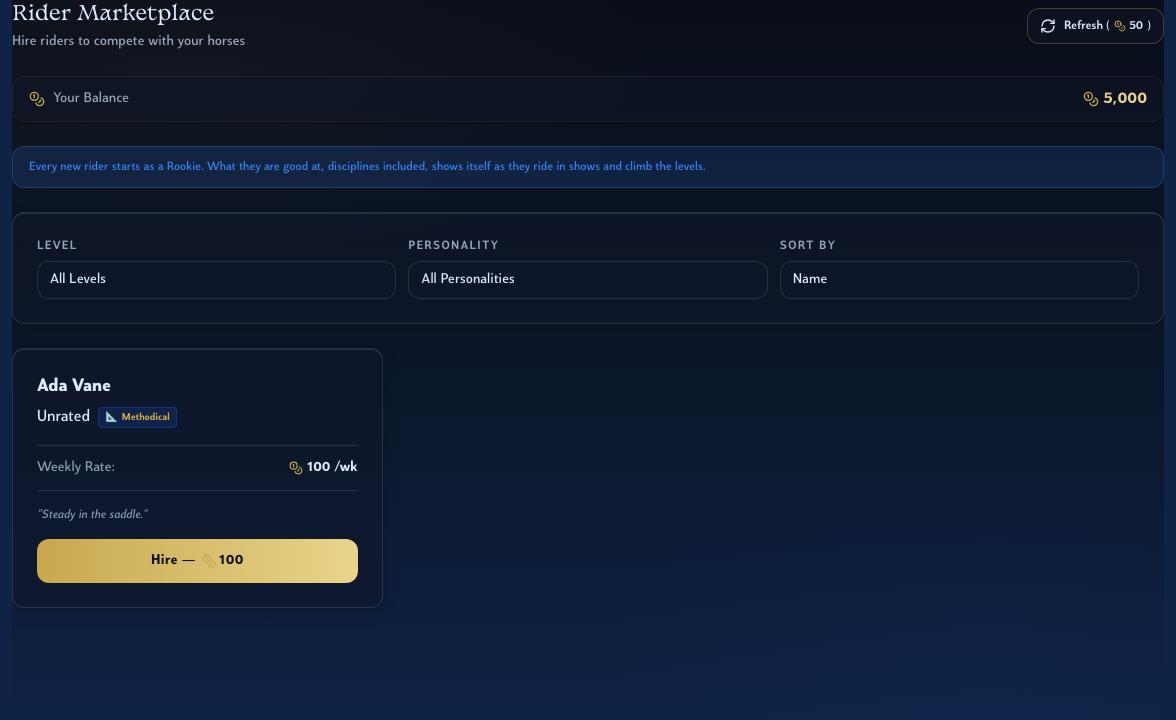
Scenario: RiderList — hire feedback (Equoria-ln49p) › a stale hire error is cleared by the next click
Click the button with test id "hire-button-mk-1" at {"x": 197, "y": 561}, box [37, 539, 358, 583]
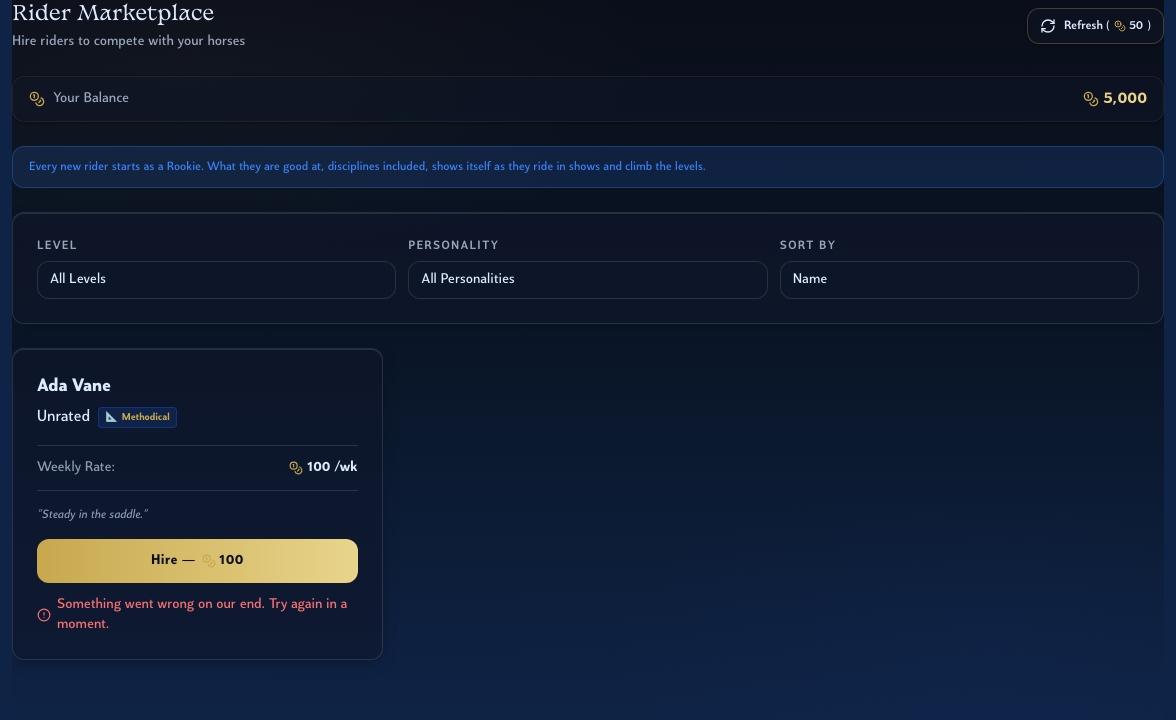
Now the message "Something went wrong on our end. Try again in a moment." is shown, box [37, 595, 358, 635]
Click the button with test id "hire-button-mk-1" at {"x": 197, "y": 561}, box [37, 539, 358, 583]
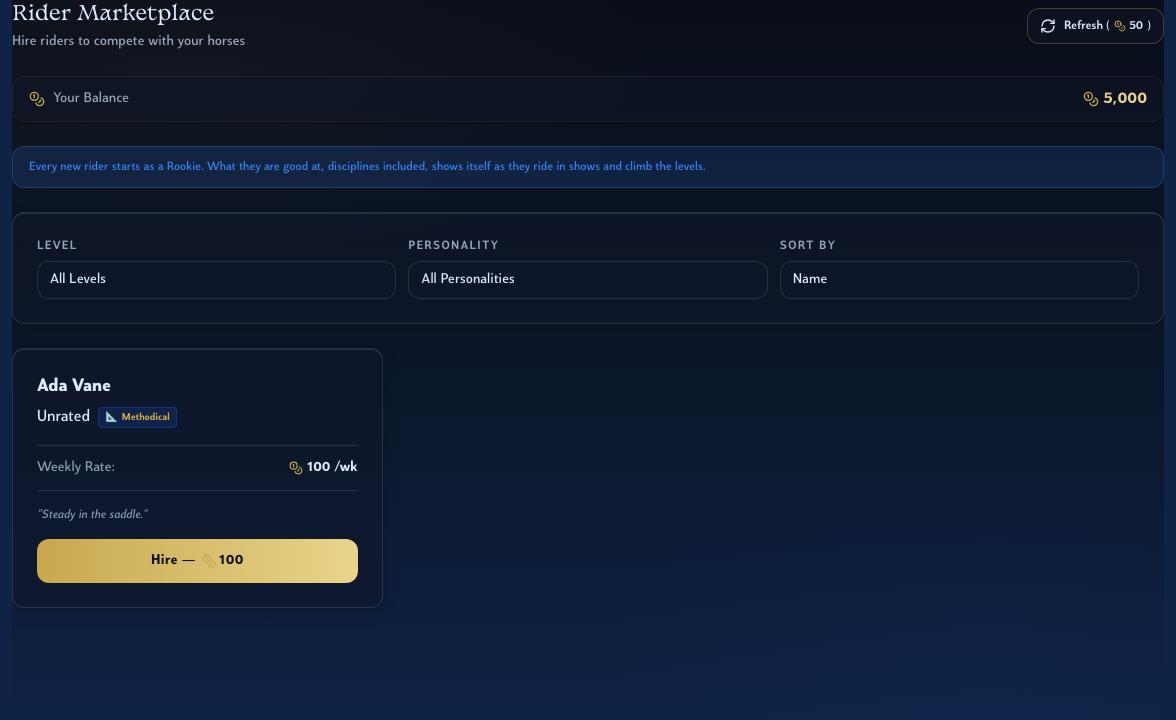
Now the message "Something went wrong on our end. Try again in a moment." is gone
